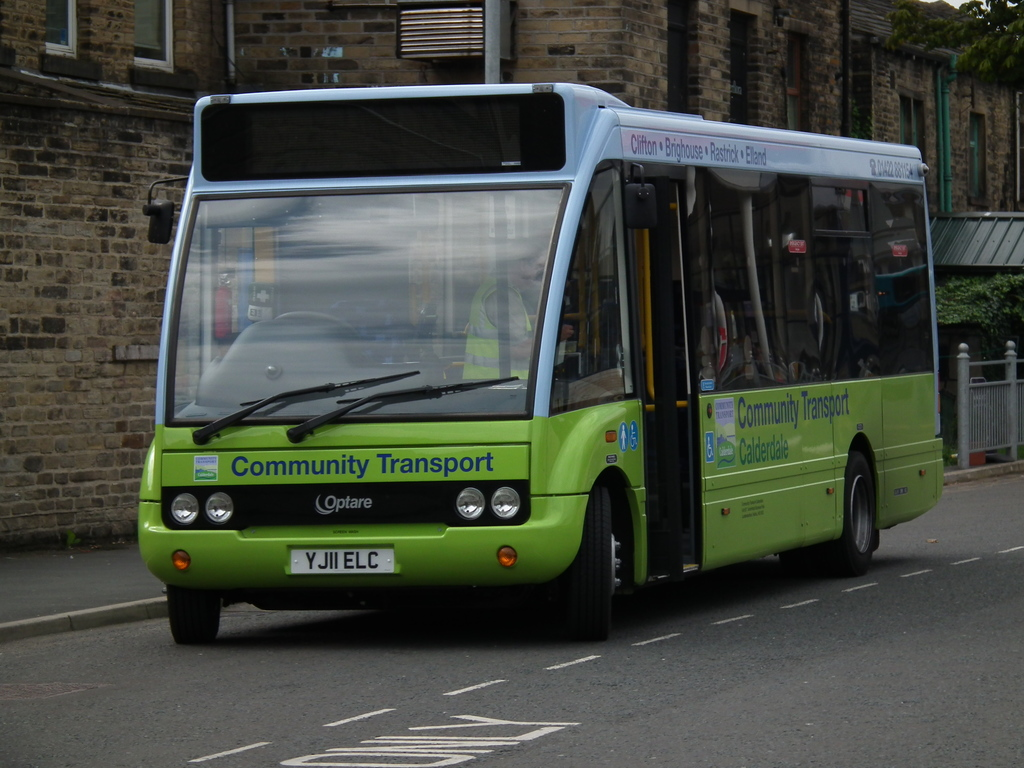Bus: (137, 82, 943, 644)
